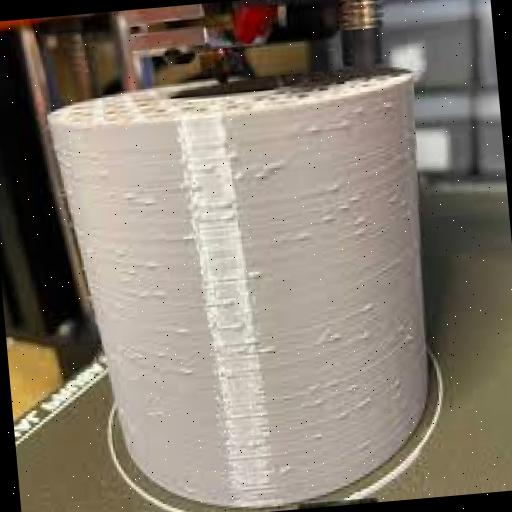blobs: (300, 284, 436, 444), (92, 246, 182, 401), (116, 156, 288, 220), (200, 256, 280, 368), (292, 86, 420, 150), (320, 174, 416, 242)
